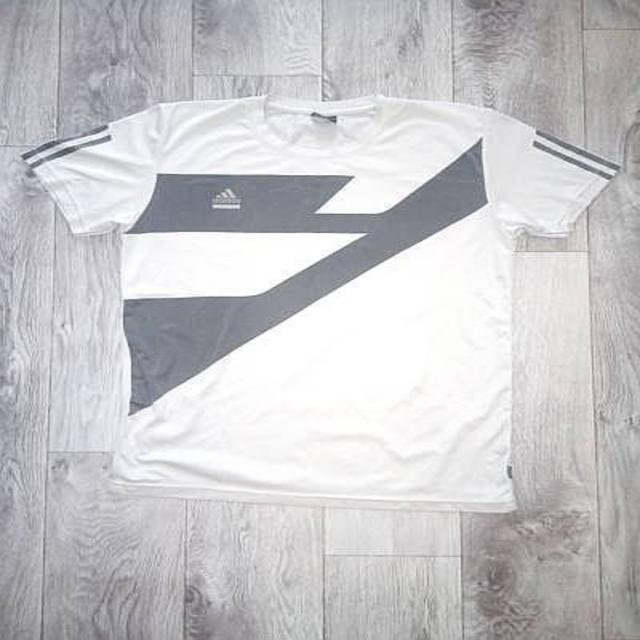T_SHIRT: (12, 85, 628, 508)
